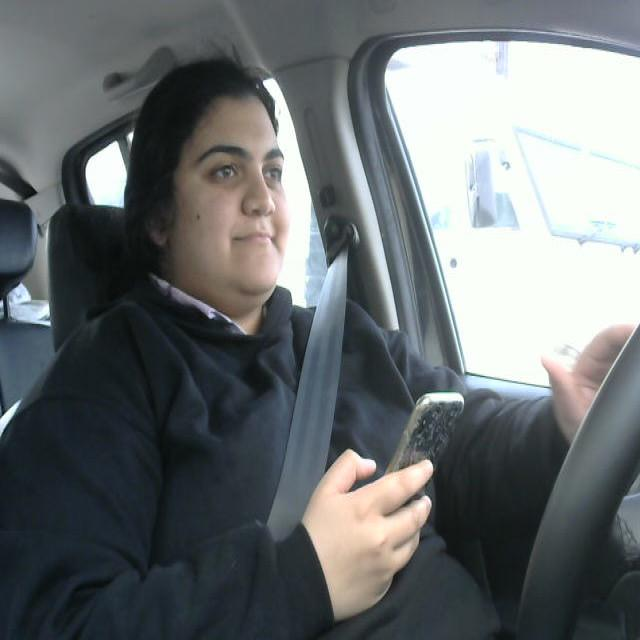mobile use: (378, 377, 477, 512)
